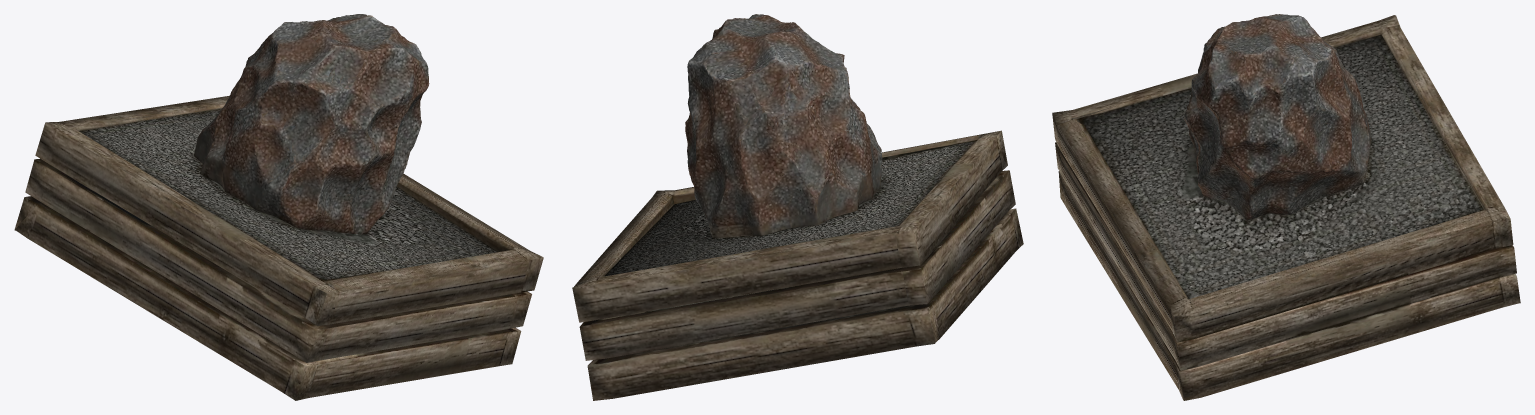
The model's file is tripo_convert_b9455552-ff4a-4a00-b4a4-4fc7fd66ea34.fbx.
The picture shows the model from 3 angles, left to right: view 1: azimuth 30°, elevation 25°; view 2: azimuth 150°, elevation 25°; view 3: azimuth 270°, elevation 25°; orthographic projection. The views are drawn at different scales.
Parts seen in each view (by area): view 1: tripo_node_b9455552; view 2: tripo_node_b9455552; view 3: tripo_node_b9455552.
Part boxes in pixels (x1=…): tripo_node_b9455552: x1=14, y1=14, x2=543, y2=400; tripo_node_b9455552: x1=572, y1=14, x2=1023, y2=400; tripo_node_b9455552: x1=1052, y1=14, x2=1520, y2=400.
Size of the model in its own units: 0.9238 by 0.7441 by 0.998.
1 material, 1 textured.
